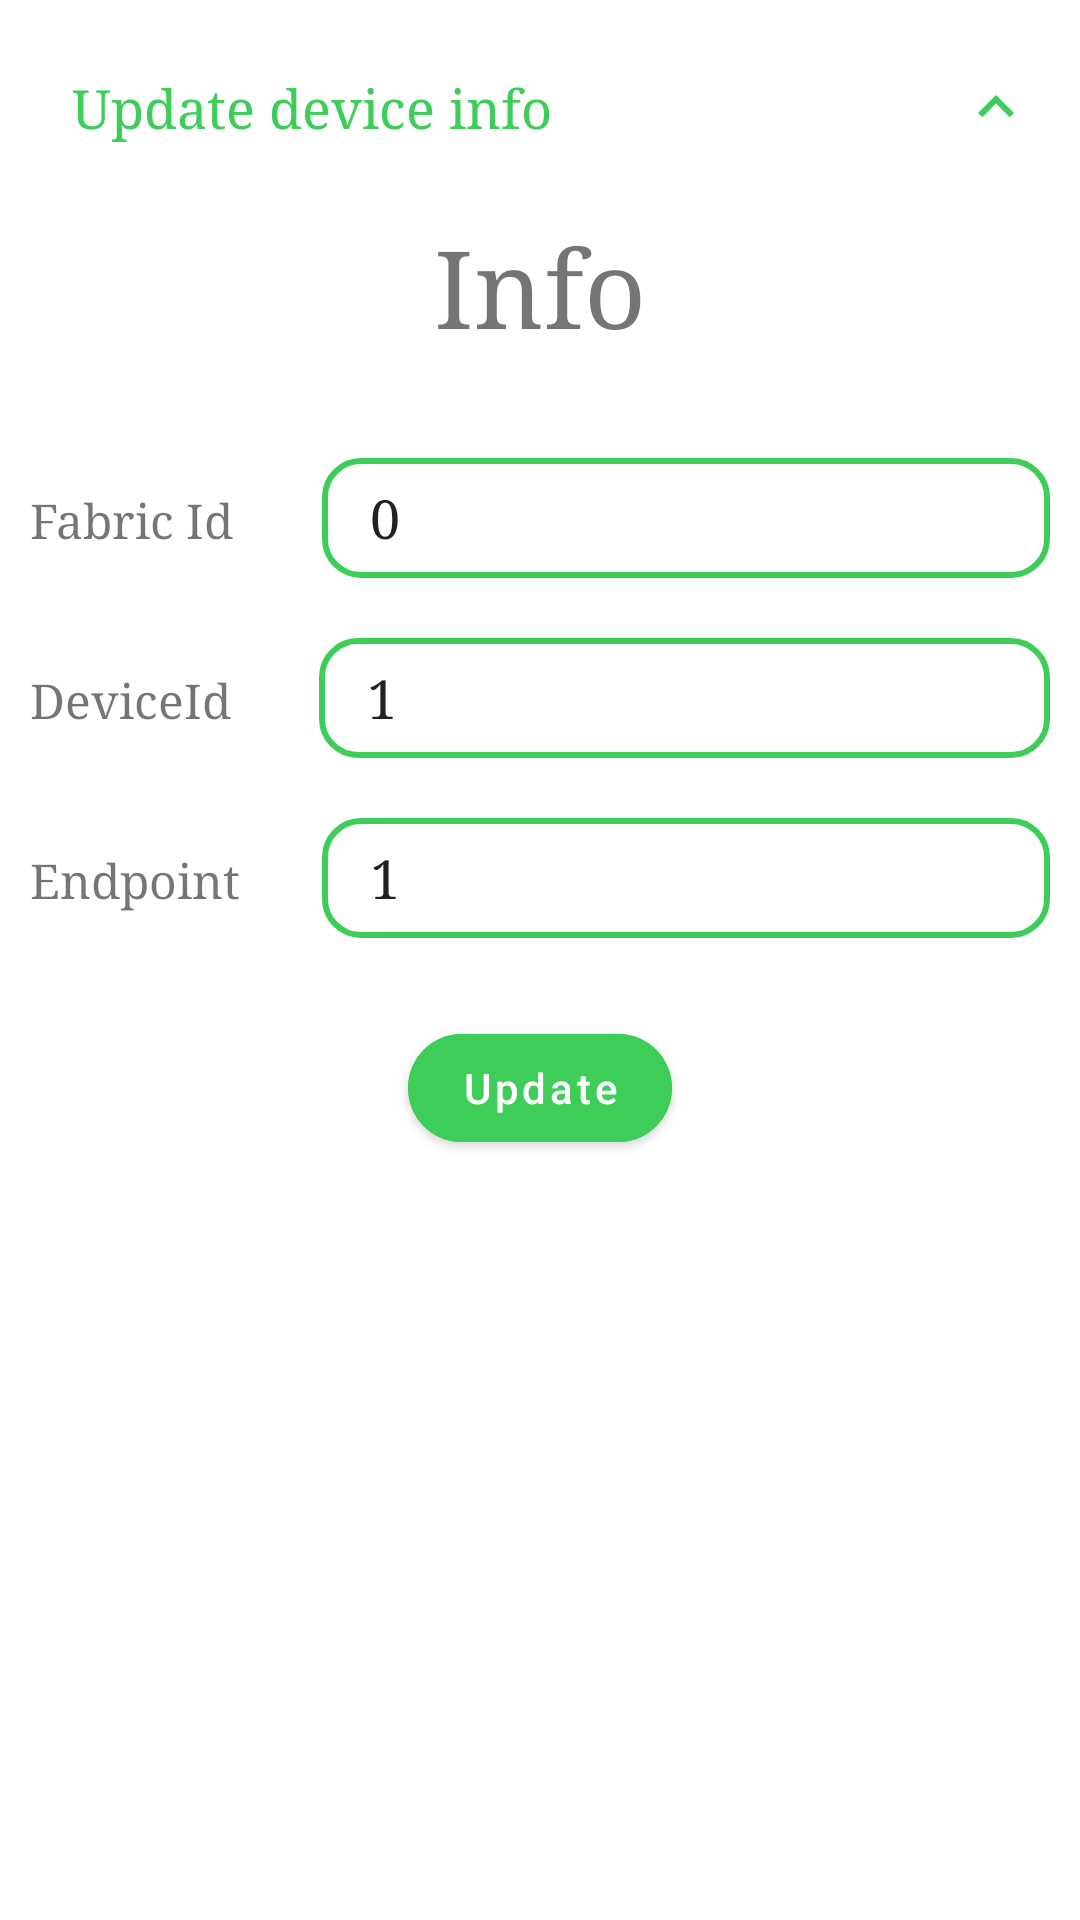

Locate icon controls on the screen. Image size 1080 x 1920, boxes as (x1, y1, x2, y2).
keyboard arrow up: (978, 95, 1014, 117)
